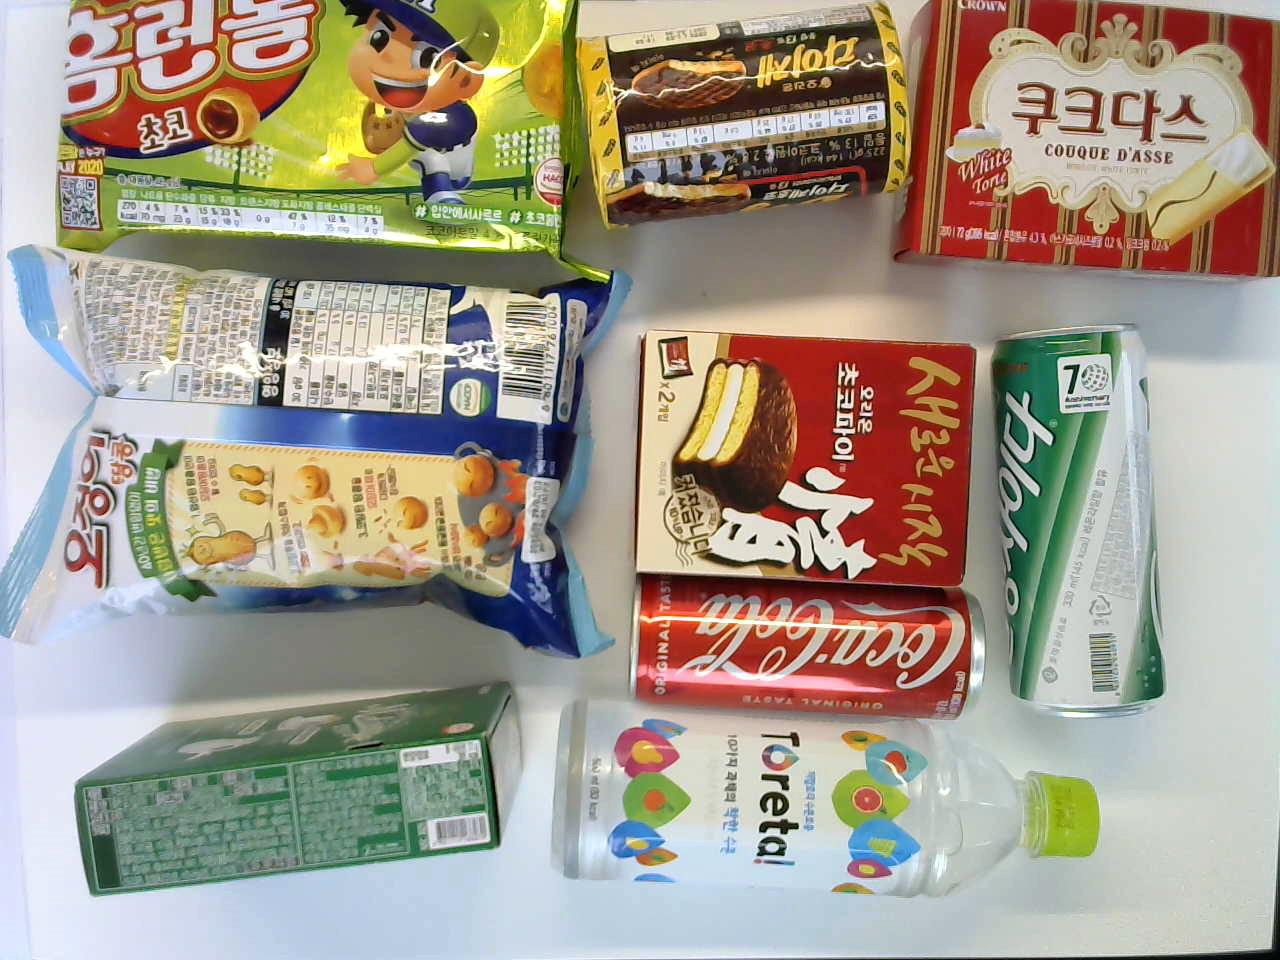chocopie: (625, 323, 980, 585)
cidar: (996, 323, 1165, 723)
coke: (625, 590, 987, 718)
couque_coffee: (70, 680, 519, 904)
couque_white: (885, 11, 1280, 281)
diget_choco: (590, 6, 901, 229)
homerunball: (46, 4, 564, 257)
squid_peanut: (11, 239, 611, 659)
toreta: (543, 697, 1097, 899)
